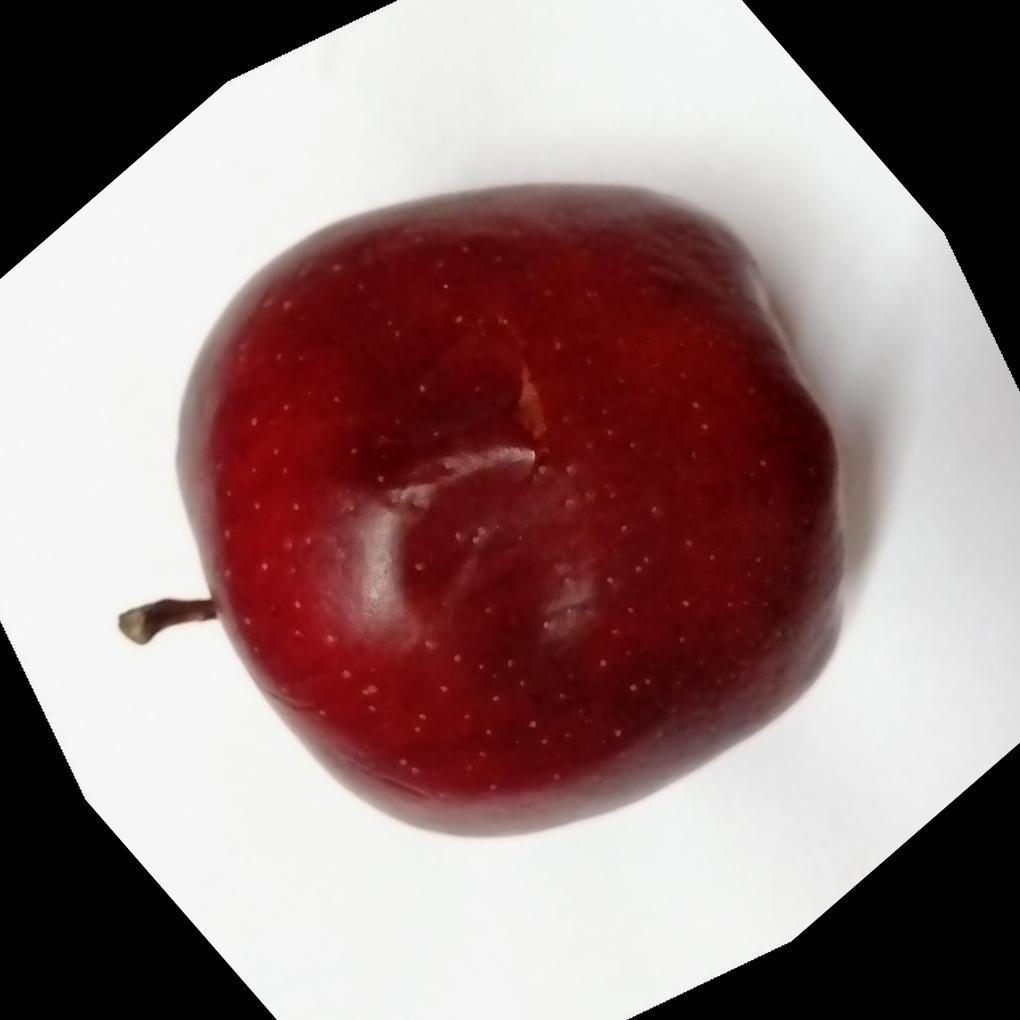FreshOrange: (130, 178, 854, 838)
